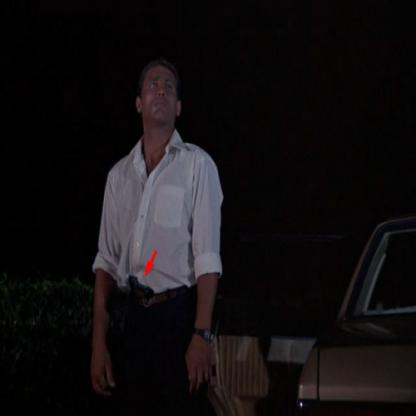Guns: (124, 272, 158, 309)
